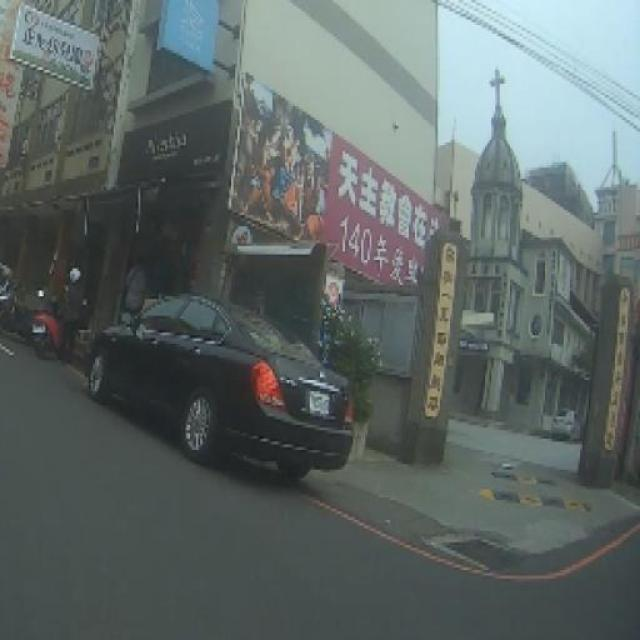Legalparking: (65, 278, 399, 483)
